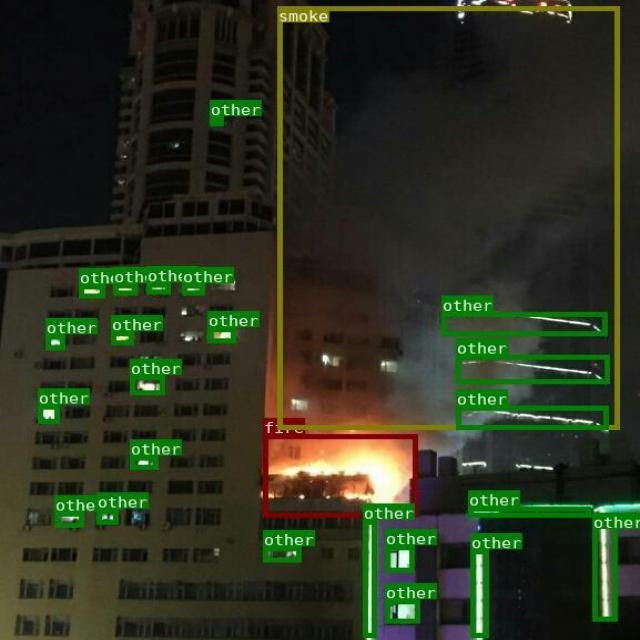fire: (262, 434, 417, 516)
smoke: (277, 6, 618, 428)
